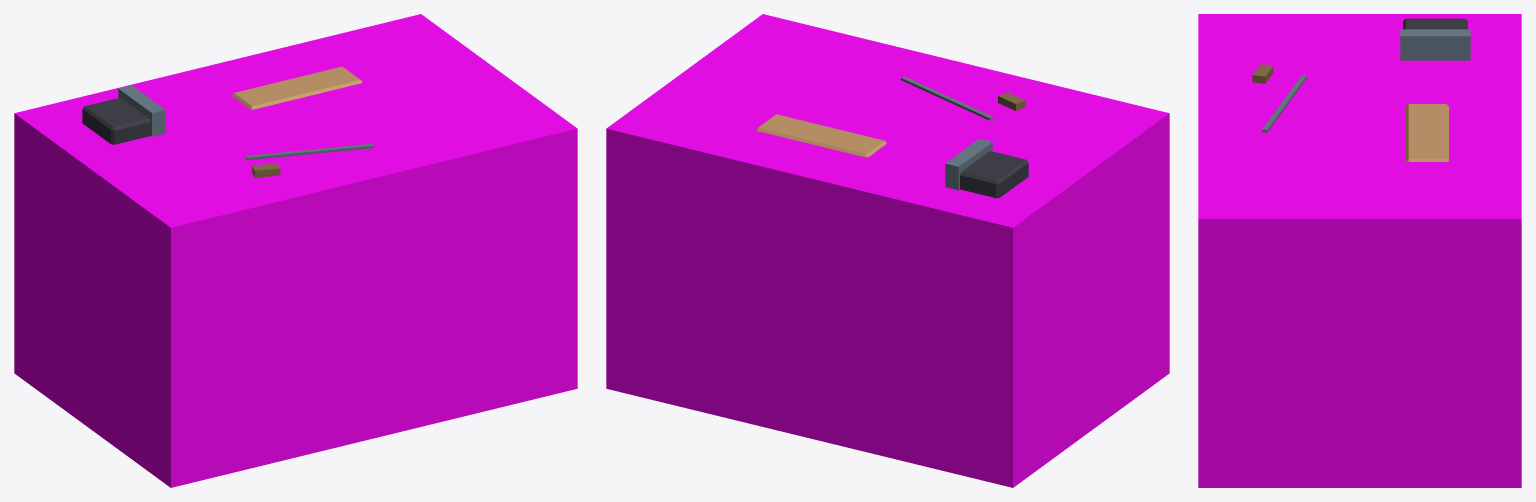
The model's file is workbench.glb.
3 views of the same model, side by side, from view 1: azimuth 30°, elevation 25°; view 2: azimuth 150°, elevation 25°; view 3: azimuth 270°, elevation 25° (orthographic). The views are drawn at different scales.
Visible parts, largest first — view 1: Col_main, M_b4, M_b2, M_b3; view 2: Col_main, M_b4, M_b2, M_b3; view 3: Col_main, M_b3, M_b4, M_b2.
Part boxes in pixels (x1,y1,x2,y2): Col_main: (14, 14, 577, 487); M_b4: (232, 66, 362, 109); M_b2: (82, 97, 150, 144); M_b3: (118, 85, 373, 160); Col_main: (606, 14, 1169, 487); M_b4: (756, 114, 886, 157); M_b2: (960, 151, 1028, 198); M_b3: (901, 76, 993, 190); Col_main: (1198, 14, 1521, 487); M_b3: (1262, 29, 1470, 132); M_b4: (1406, 104, 1448, 161); M_b2: (1403, 18, 1467, 29).
Bounding box in the file's own units: 1.8 × 1.2 × 1.2.
